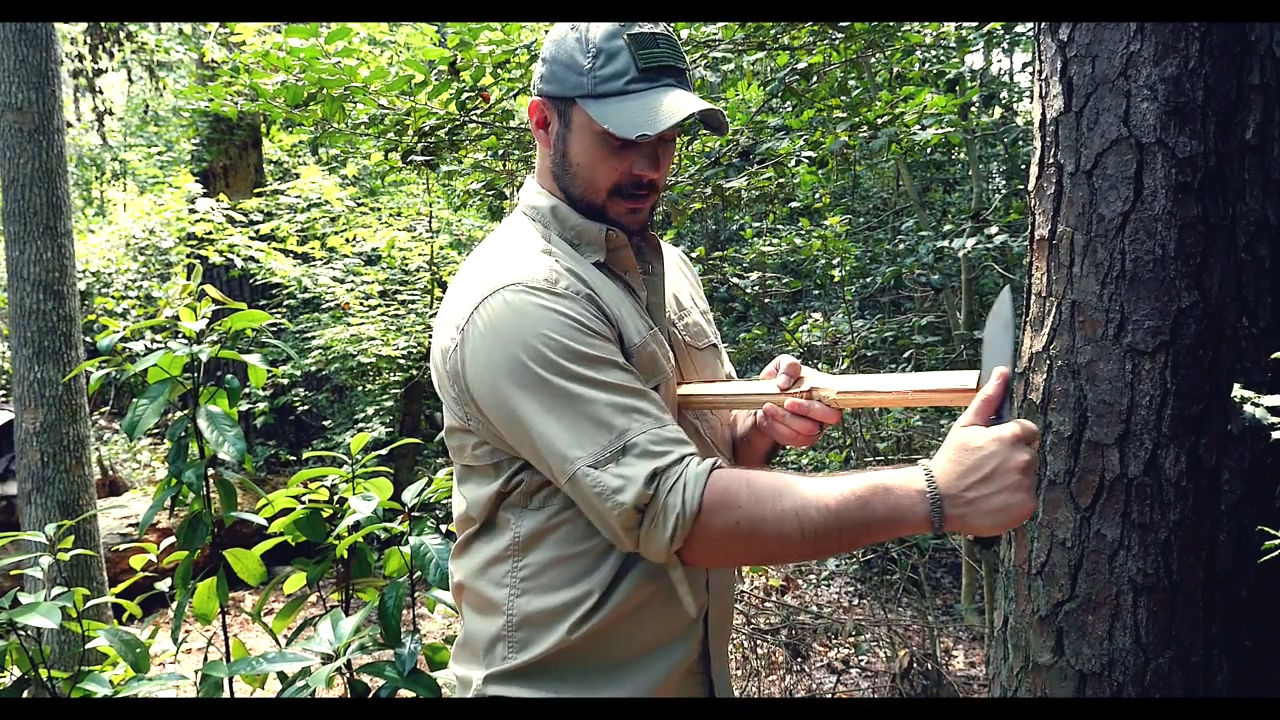knife: (955, 278, 1055, 523)
